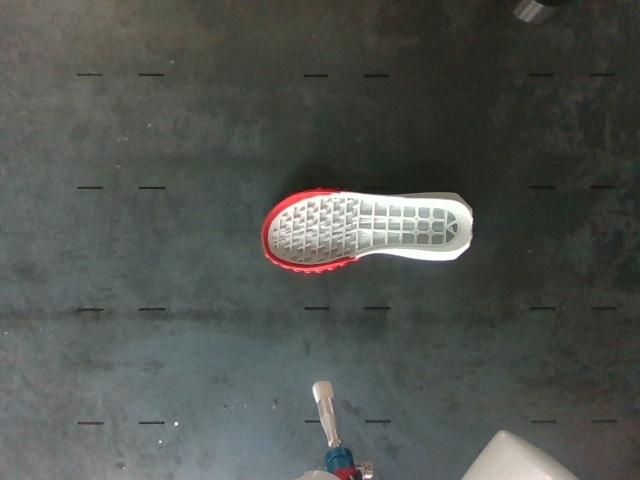shoes: (264, 192, 471, 267)
